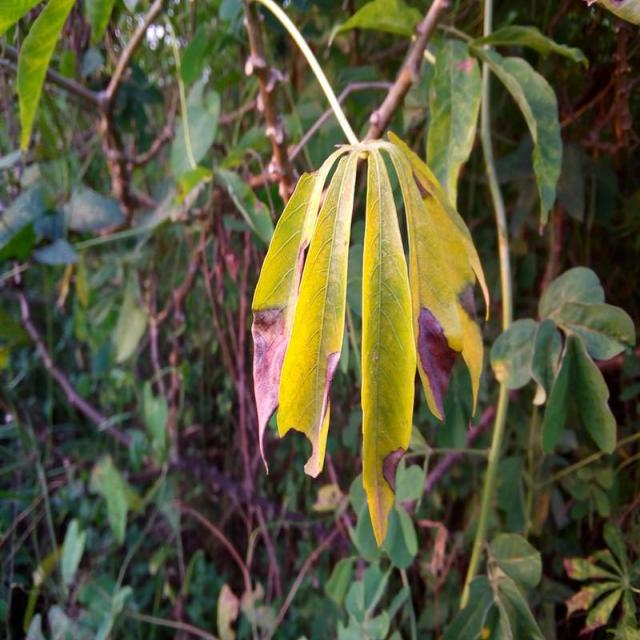cassava leaf: (250, 128, 490, 547), (274, 144, 358, 478), (359, 142, 417, 547), (250, 168, 322, 474)
